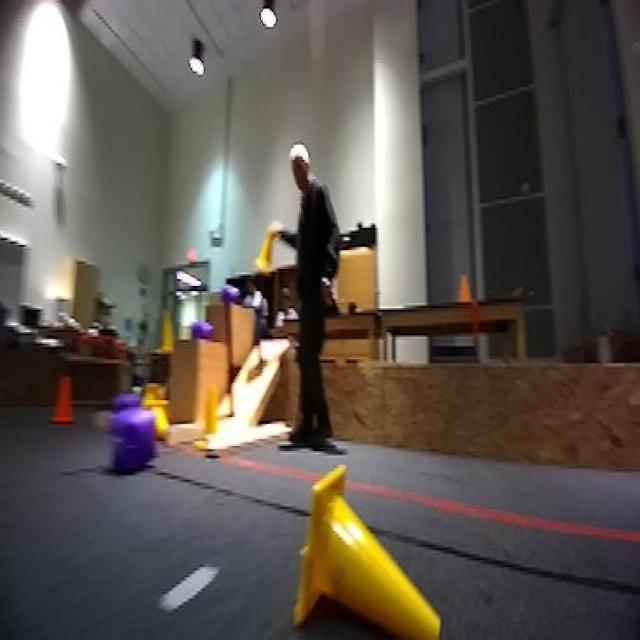frc_cone: (286, 466, 446, 628), (194, 385, 221, 449), (252, 220, 282, 276), (152, 306, 178, 361), (152, 397, 174, 438), (139, 378, 166, 402)
frc_cube: (112, 411, 156, 478), (188, 315, 216, 337), (216, 282, 240, 306), (111, 393, 138, 410)
